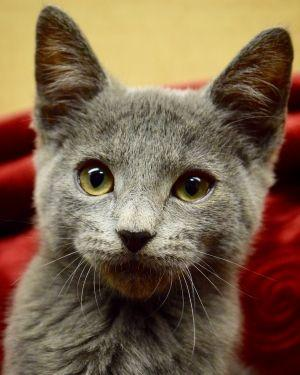rblue: (26, 2, 300, 302)
